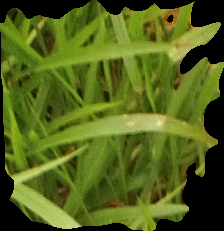grass: (1, 1, 223, 229)
